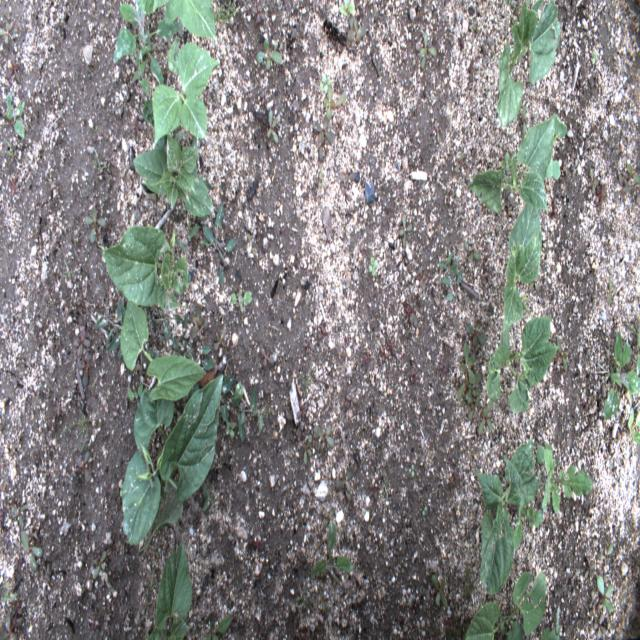crop: (122, 374, 223, 556), (466, 109, 567, 213), (474, 438, 539, 596), (142, 35, 222, 153), (119, 293, 207, 399), (496, 0, 560, 127), (98, 225, 189, 309), (486, 311, 559, 413), (132, 131, 214, 221), (504, 174, 542, 331), (462, 571, 546, 639), (146, 538, 194, 640)
weed: (113, 0, 219, 97), (535, 444, 595, 515), (220, 375, 274, 442), (602, 330, 640, 420), (203, 202, 237, 285), (310, 518, 354, 577), (92, 295, 128, 360), (510, 498, 544, 550), (438, 250, 464, 306), (457, 340, 480, 400), (1, 92, 25, 140), (20, 532, 43, 572), (256, 37, 282, 70), (84, 206, 106, 244), (323, 83, 346, 118), (596, 574, 615, 616), (203, 614, 233, 640), (346, 15, 366, 50), (419, 31, 436, 70), (431, 574, 449, 609), (478, 397, 494, 435), (466, 321, 486, 346), (555, 336, 567, 375), (399, 213, 412, 247), (229, 288, 253, 306), (467, 393, 481, 421), (268, 109, 278, 144), (128, 385, 144, 403), (340, 0, 355, 15), (320, 72, 330, 94), (368, 258, 378, 275)
